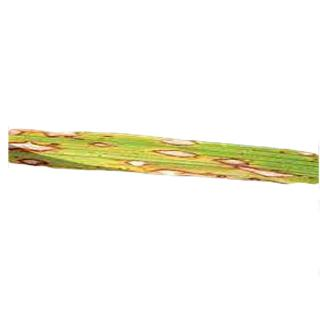Blast: (206, 150, 295, 180), (9, 124, 120, 143), (126, 152, 189, 178), (9, 146, 64, 170), (156, 133, 202, 146), (158, 145, 192, 162), (294, 148, 318, 164)
